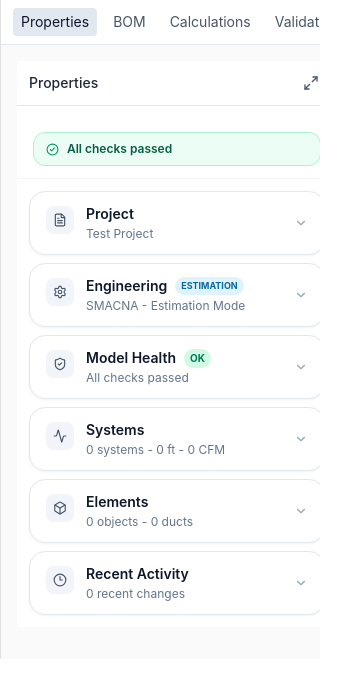
Scenario: Canvas RightSidebar Tabs › switches to BOM tab
This screenshot has width=337, height=676.
Click the tab with test id "tab-bom" at (129, 22), box [105,8,154,36]
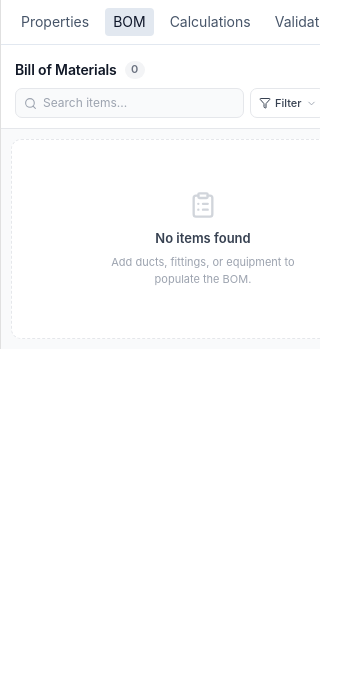
Result: the panel with test id "bom-panel" is shown at [1,45,320,349]
Result: the heading "Bill of Materials" is shown at [15,59,117,80]
Result: the search field named "Search BOM" is shown at [43,94,235,112]
